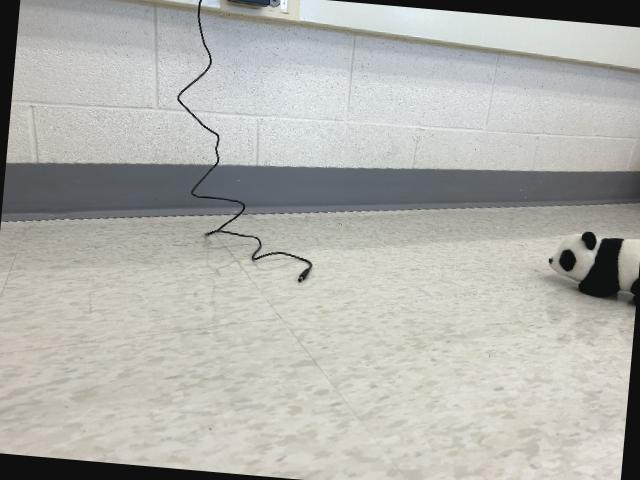panda_plushie: (544, 227, 640, 303)
